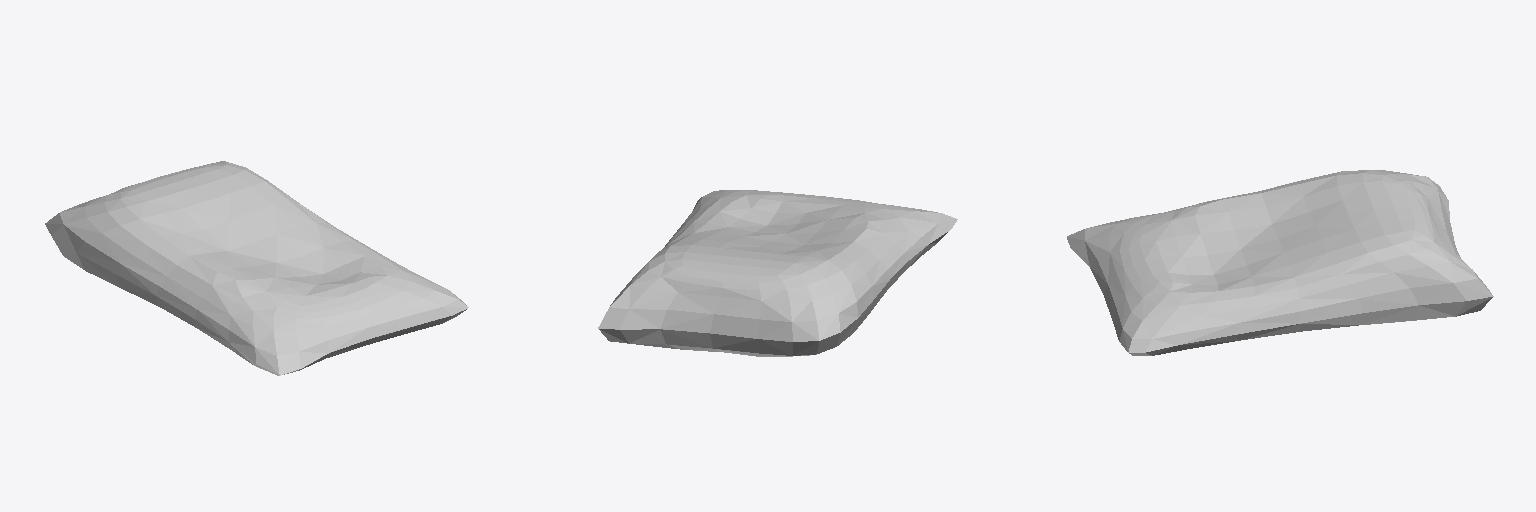
The model's file is Dirty Pillow.obj.
3 renders of one model, left to right at view 1: azimuth 30°, elevation 25°; view 2: azimuth 150°, elevation 25°; view 3: azimuth 270°, elevation 25°, orthographic.
Parts seen in each view (by area): view 1: obj1; view 2: obj1; view 3: obj1.
Part boxes in pixels (left/top/right/bottom): obj1: left=45, top=161, right=468, bottom=375; obj1: left=598, top=190, right=957, bottom=356; obj1: left=1067, top=170, right=1493, bottom=355.
Size of the model in its own units: 31.75 by 8.93 by 42.41.